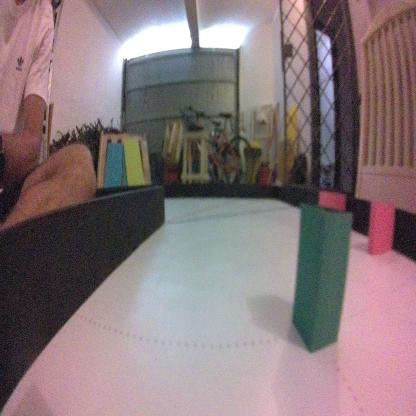green: (290, 201, 354, 360)
magenta: (366, 196, 394, 256)
